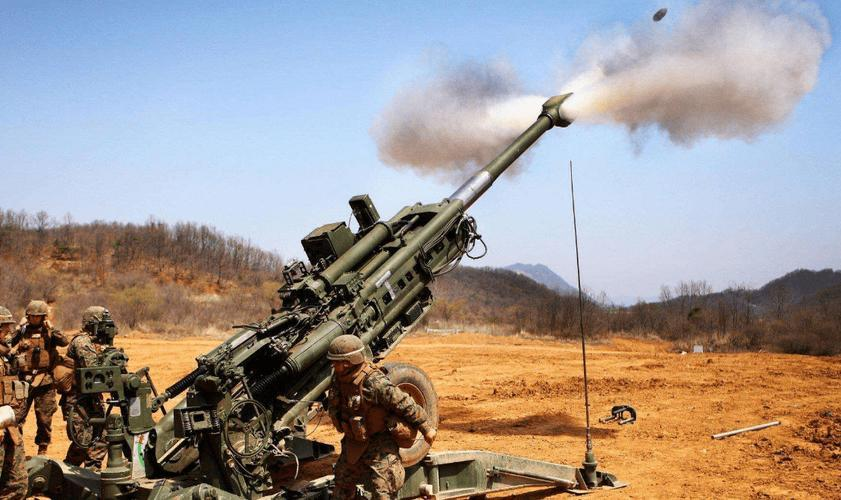MIL_SPG: (28, 94, 568, 499), (404, 409, 618, 497)
